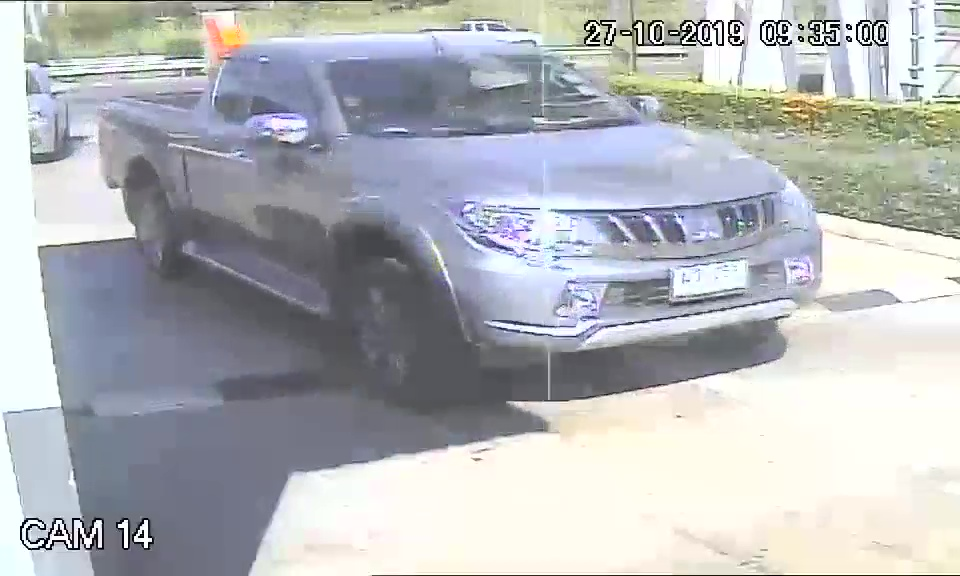pickup: (95, 28, 823, 407)
